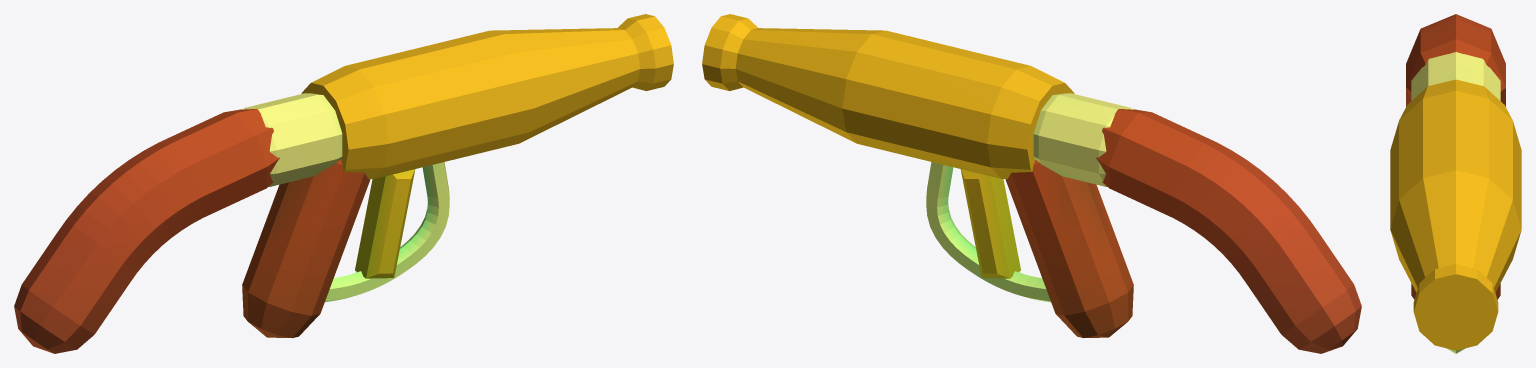
The model's file is Prop_HoseNozzle.fbx.
The picture shows the model from 3 angles, left to right: view 1: azimuth 30°, elevation 25°; view 2: azimuth 150°, elevation 25°; view 3: azimuth 270°, elevation 25°; orthographic projection. The views are drawn at different scales.
Visible parts, largest first — view 1: Nozzle, Move_Trigger; view 2: Nozzle, Move_Trigger; view 3: Nozzle.
Part boxes in pixels (<box>): Nozzle: <box>14,14,673,353</box>; Move_Trigger: <box>355,169,415,278</box>; Nozzle: <box>702,14,1361,353</box>; Move_Trigger: <box>960,169,1020,278</box>; Nozzle: <box>1390,14,1521,353</box>.
Bounding box in the file's own units: 0.5265 × 0.1949 × 0.084.
